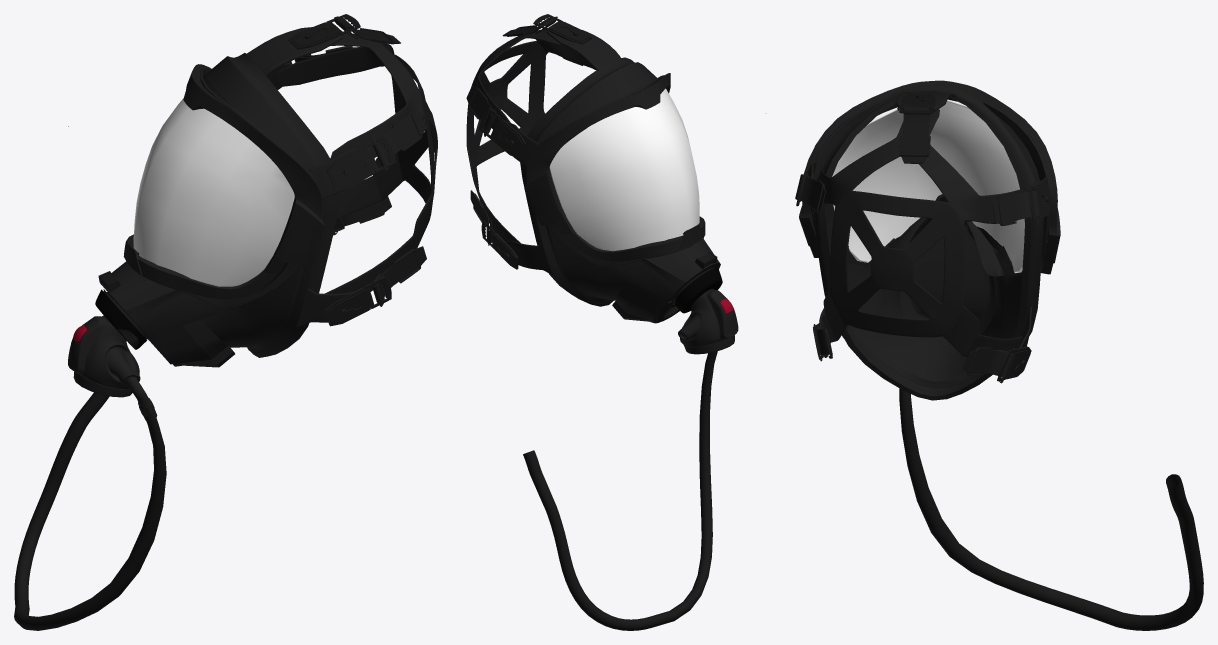
Rendered from mask.glb.
3 renders of one model, left to right at view 1: azimuth 30°, elevation 25°; view 2: azimuth 150°, elevation 25°; view 3: azimuth 270°, elevation 25°, orthographic. The views are drawn at different scales.
Visible parts, largest first — view 1: FPS_mask_mesh; view 2: FPS_mask_mesh; view 3: FPS_mask_mesh.
Part boxes in pixels (bbox=[...]): FPS_mask_mesh: bbox=[14, 14, 437, 630]; FPS_mask_mesh: bbox=[466, 14, 738, 630]; FPS_mask_mesh: bbox=[795, 80, 1203, 630].
Bounding box in the file's own units: 0.749 × 1.24 × 0.7258.
7 materials, 3 textured.
